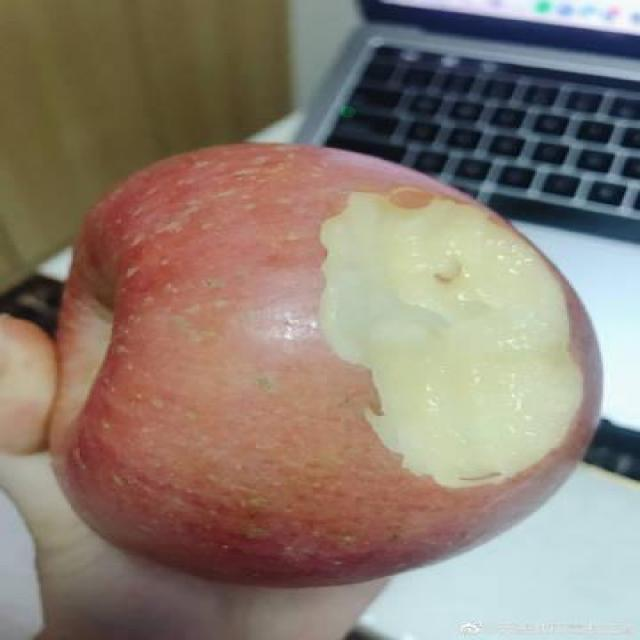Rotten: (49, 140, 587, 578)
